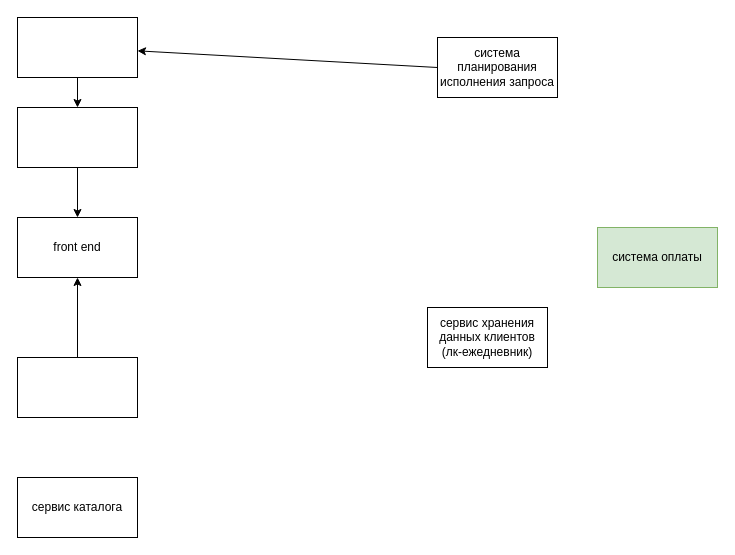
The diagram is 735 pixels wide and 555 high, and some of its shapes have lost their labels. Each missing label, with the box of its shape:
CRM = tab_users: (16, 16, 138, 78)
сервис авторизации: (16, 106, 138, 168)
сервис запросов: (16, 356, 138, 418)
